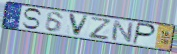6: (44, 11, 65, 33)
N: (111, 19, 135, 44)
P: (131, 21, 157, 46)
S: (21, 8, 43, 30)
V: (67, 13, 91, 38)
Z: (88, 15, 111, 40)
